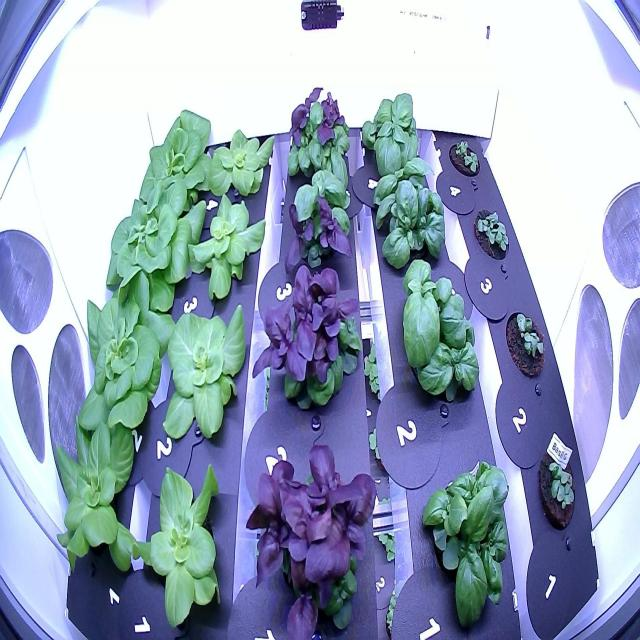germination: (532, 437, 582, 538), (502, 304, 550, 388), (468, 199, 514, 267), (445, 127, 484, 182)
young: (37, 401, 146, 588), (125, 446, 232, 636), (96, 158, 215, 322), (69, 266, 182, 438), (153, 290, 254, 457), (131, 103, 229, 234), (180, 184, 274, 313), (198, 114, 280, 212)
